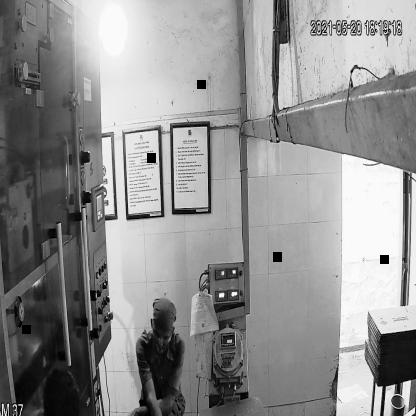goggles: (151, 320, 176, 349)
